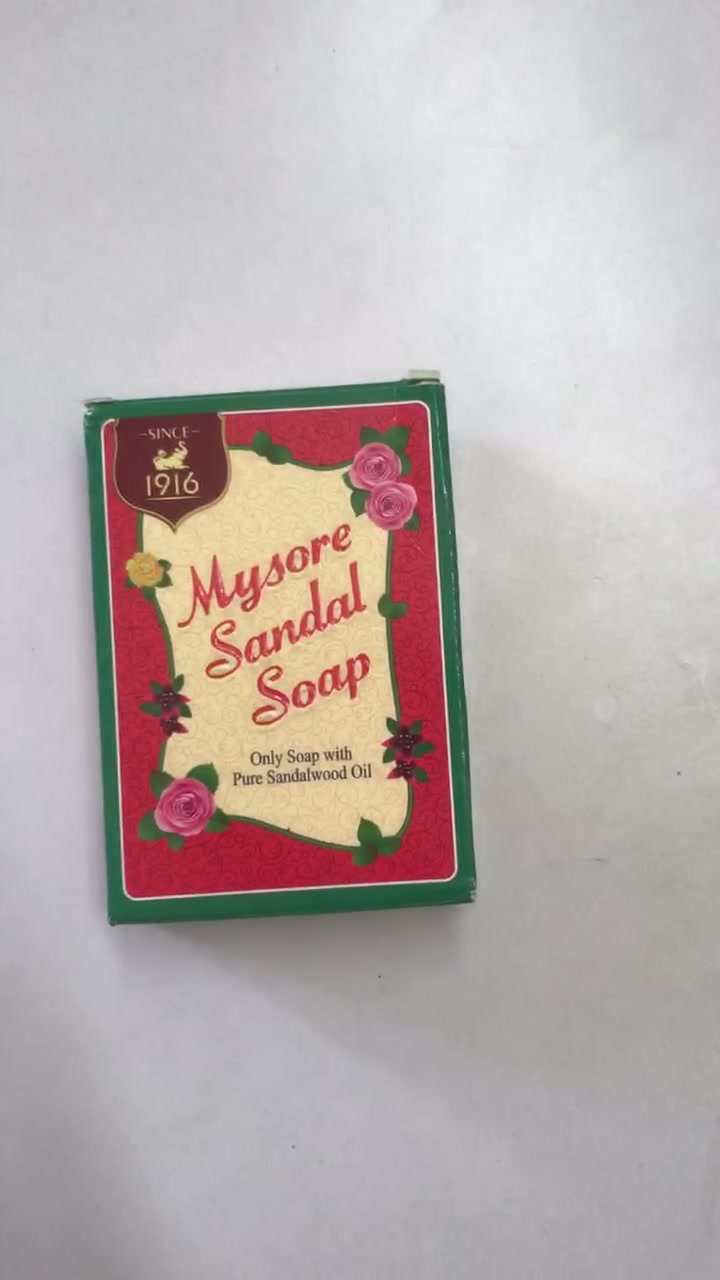mysore sandal soap: (91, 389, 477, 900)
